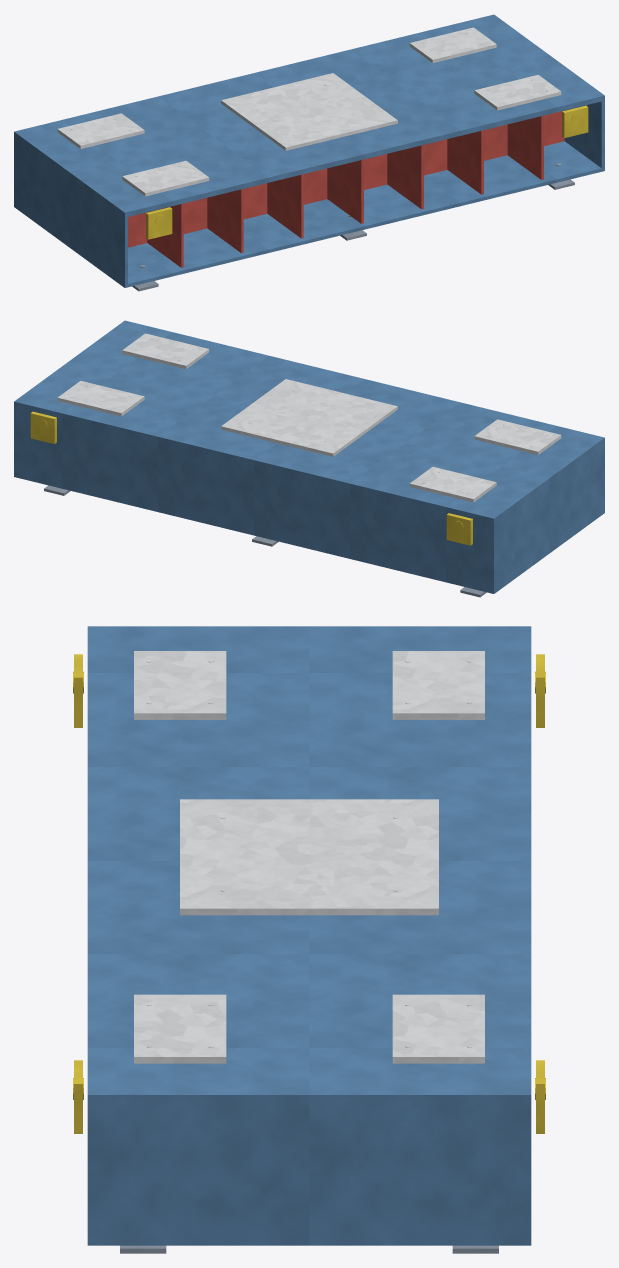
File: machine-frames-and-weldments.glb
The picture shows the model from 3 angles, top to bottom: view 1: azimuth 30°, elevation 25°; view 2: azimuth 150°, elevation 25°; view 3: azimuth 270°, elevation 25°; orthographic projection. The views are drawn at different scales.
Visible parts, largest first — view 1: TopPlate, Side&EndPlates, InternalRibs, MachinedPads, LiftingLugs, LevellingFeet(context); view 2: TopPlate, Side&EndPlates, MachinedPads, LiftingLugs, LevellingFeet(context); view 3: TopPlate, Side&EndPlates, MachinedPads, LiftingLugs, LevellingFeet(context).
Part boxes in pixels (<box>): TopPlate: <box>14,14,604,217</box>; Side&EndPlates: <box>14,100,604,287</box>; InternalRibs: <box>128,110,564,267</box>; MachinedPads: <box>57,27,561,196</box>; LiftingLugs: <box>146,105,588,239</box>; LevellingFeet(context): <box>132,163,574,291</box>; TopPlate: <box>14,320,604,523</box>; Side&EndPlates: <box>14,406,604,593</box>; MachinedPads: <box>57,333,561,502</box>; LiftingLugs: <box>30,411,472,545</box>; LevellingFeet(context): <box>44,485,486,597</box>; TopPlate: <box>87,626,531,1104</box>; Side&EndPlates: <box>87,1105,531,1245</box>; MachinedPads: <box>134,651,484,1063</box>; LiftingLugs: <box>73,654,545,1133</box>; LevellingFeet(context): <box>120,1245,498,1253</box>.
Bounding box in the file's own units: 6 × 1.12 × 2.56.
Materials: 5 (5 with a texture image).
